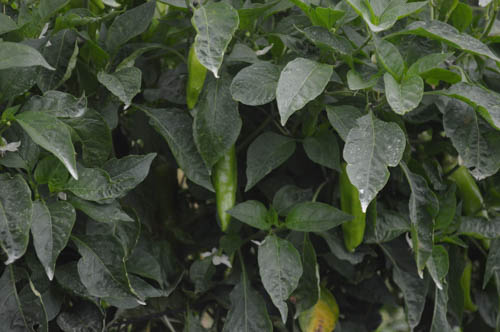ChiliPepper: (448, 155, 491, 246), (211, 130, 238, 237), (336, 162, 364, 258), (185, 40, 211, 114)
